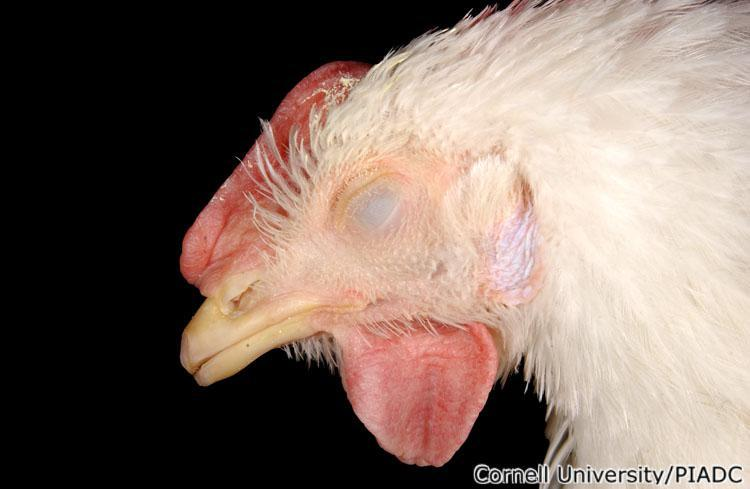AbNormal: (177, 0, 750, 468)
